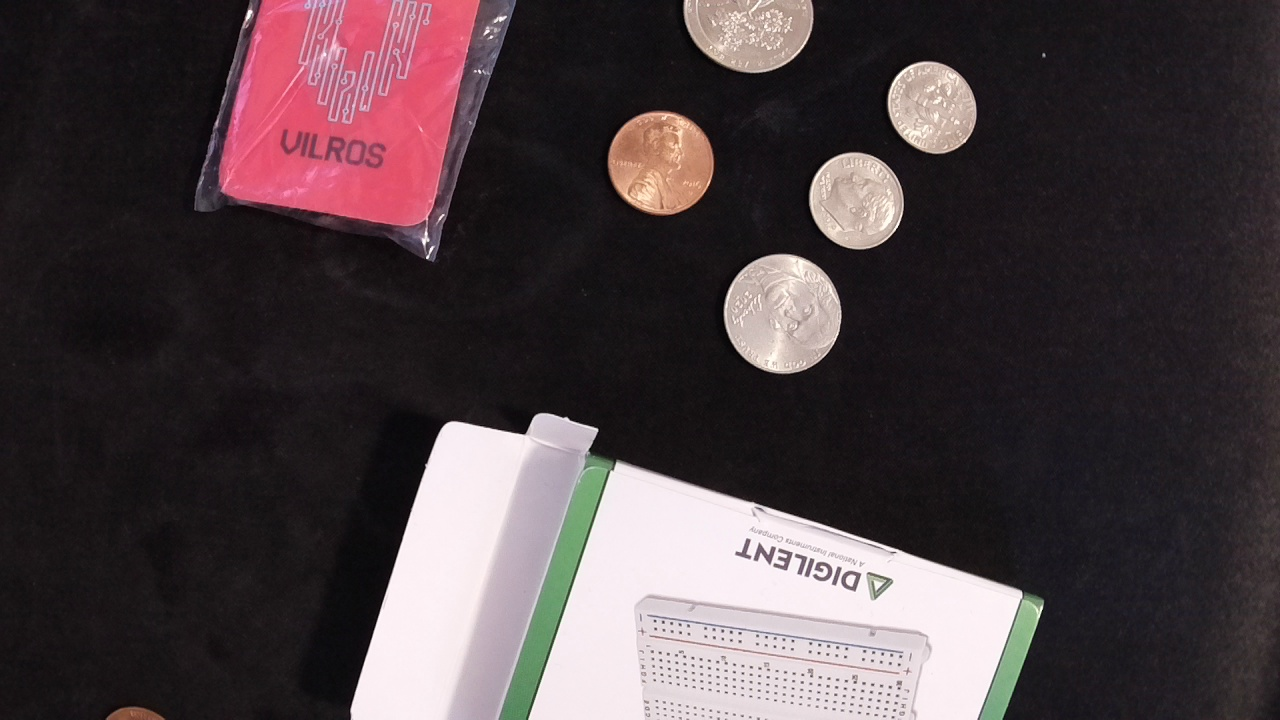dime: (806, 150, 908, 250), (885, 55, 979, 159)
nickel: (714, 250, 842, 382)
penny: (603, 106, 719, 220)
quarter: (680, 1, 818, 76)
